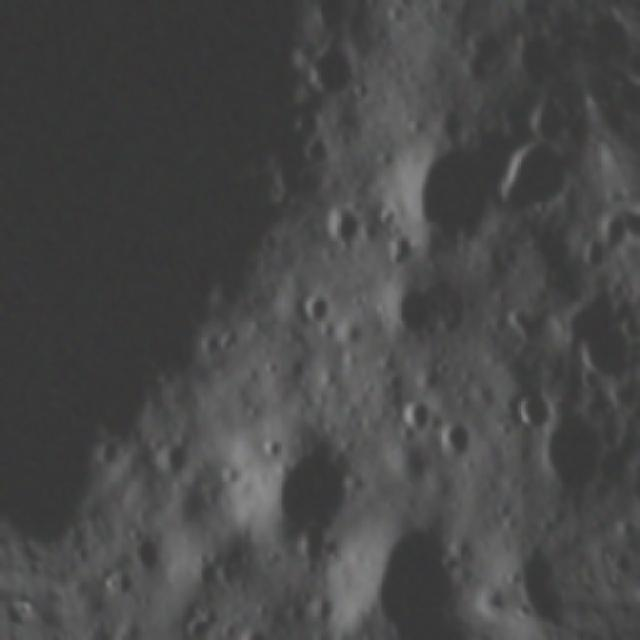crater: (384, 105, 531, 263), (243, 420, 368, 560), (350, 523, 468, 637), (527, 414, 616, 508), (368, 272, 450, 359), (563, 310, 640, 396), (294, 31, 372, 111), (512, 81, 586, 156), (316, 194, 378, 260), (505, 379, 563, 447), (432, 416, 485, 472), (120, 532, 172, 583), (292, 283, 345, 331), (391, 395, 435, 442), (173, 603, 227, 640), (229, 615, 283, 640), (420, 0, 469, 15), (458, 0, 510, 9)
